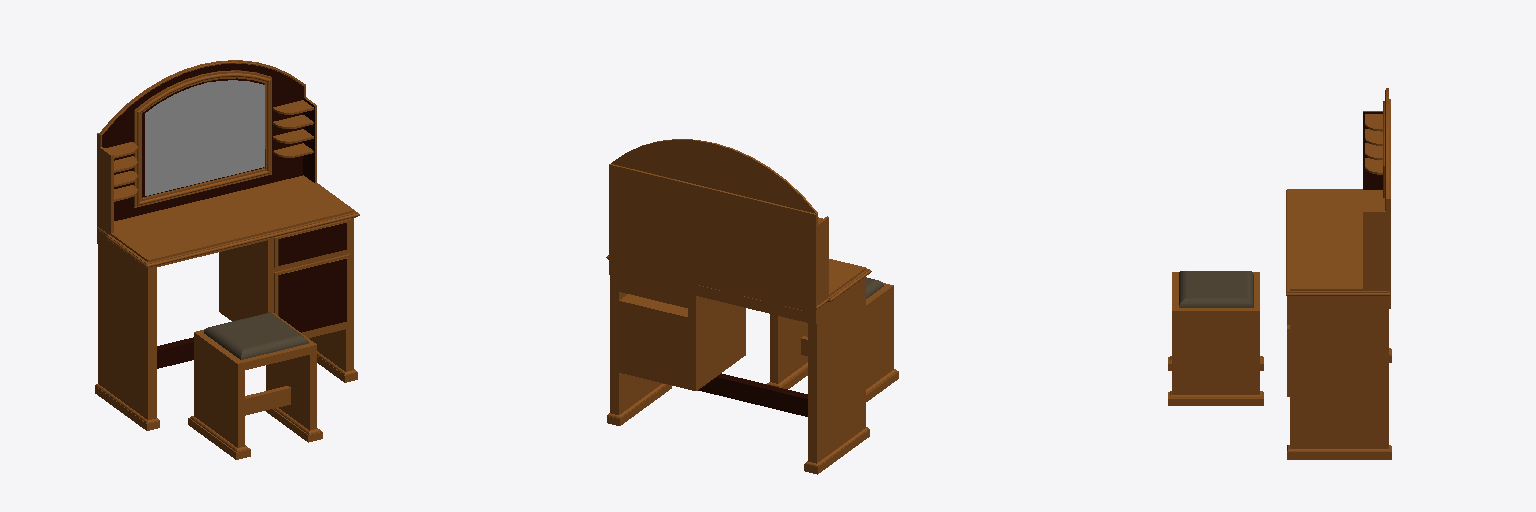
3 views of the same model, side by side, from view 1: azimuth 30°, elevation 25°; view 2: azimuth 150°, elevation 25°; view 3: azimuth 270°, elevation 25° (orthographic).
Parts seen in each view (by area): view 1: Mesh12_Component_3_1_Group1_Model, Metal_Corrogated_Shiny.001, Mesh14_Component_5_1_Group1_Model, Mesh13_Component_3_1_Group1_Model, Mesh16_Component_4_1_Group1_Model, Mesh1_Group2_Component_3_1_Group1_Model, Mesh10_Component_2_1_Component_3_1_Group1_Model; view 2: Mesh12_Component_3_1_Group1_Model, Mesh14_Component_5_1_Group1_Model, Mesh1_Group2_Component_3_1_Group1_Model, Mesh10_Component_2_1_Component_3_1_Group1_Model, Mesh11_Component_2_2_Component_3_1_Group1_Model; view 3: Mesh12_Component_3_1_Group1_Model, Mesh14_Component_5_1_Group1_Model, Mesh16_Component_4_1_Group1_Model, Mesh11_Component_2_2_Component_3_1_Group1_Model.
Boxes of the visible parts, <box> form: Mesh12_Component_3_1_Group1_Model: <box>97,60,359,419</box>; Metal_Corrogated_Shiny.001: <box>145,80,264,195</box>; Mesh14_Component_5_1_Group1_Model: <box>188,313,322,459</box>; Mesh13_Component_3_1_Group1_Model: <box>134,71,271,207</box>; Mesh16_Component_4_1_Group1_Model: <box>204,312,308,359</box>; Mesh1_Group2_Component_3_1_Group1_Model: <box>157,337,193,368</box>; Mesh10_Component_2_1_Component_3_1_Group1_Model: <box>95,384,159,430</box>; Mesh12_Component_3_1_Group1_Model: <box>606,139,871,463</box>; Mesh14_Component_5_1_Group1_Model: <box>767,283,898,401</box>; Mesh1_Group2_Component_3_1_Group1_Model: <box>698,373,807,416</box>; Mesh10_Component_2_1_Component_3_1_Group1_Model: <box>804,427,869,474</box>; Mesh11_Component_2_2_Component_3_1_Group1_Model: <box>607,384,671,425</box>; Mesh12_Component_3_1_Group1_Model: <box>1286,88,1390,448</box>; Mesh14_Component_5_1_Group1_Model: <box>1168,272,1263,405</box>; Mesh16_Component_4_1_Group1_Model: <box>1179,271,1253,307</box>; Mesh11_Component_2_2_Component_3_1_Group1_Model: <box>1287,445,1391,459</box>.
Bounding box in the file's own units: 20.33 × 27.72 × 18.45.